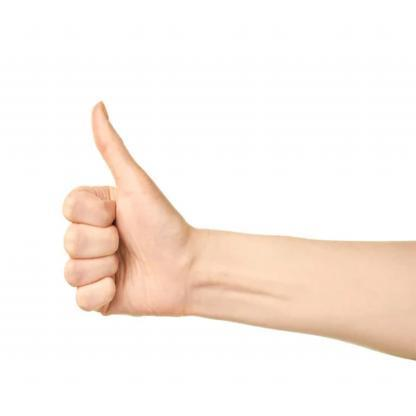thumb_up: (61, 96, 207, 320)
